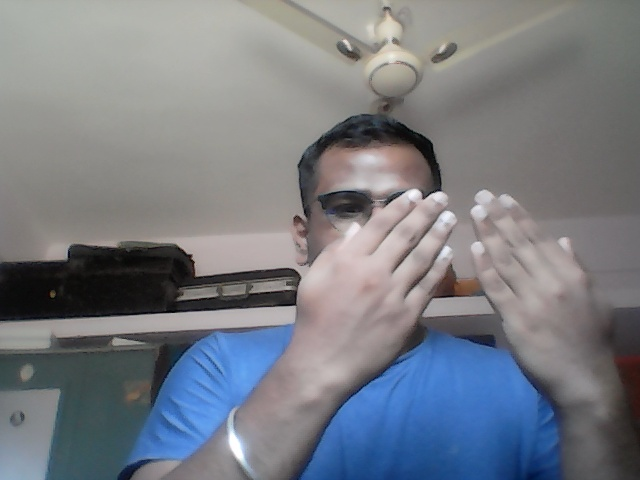Thank You: (292, 186, 618, 379)
